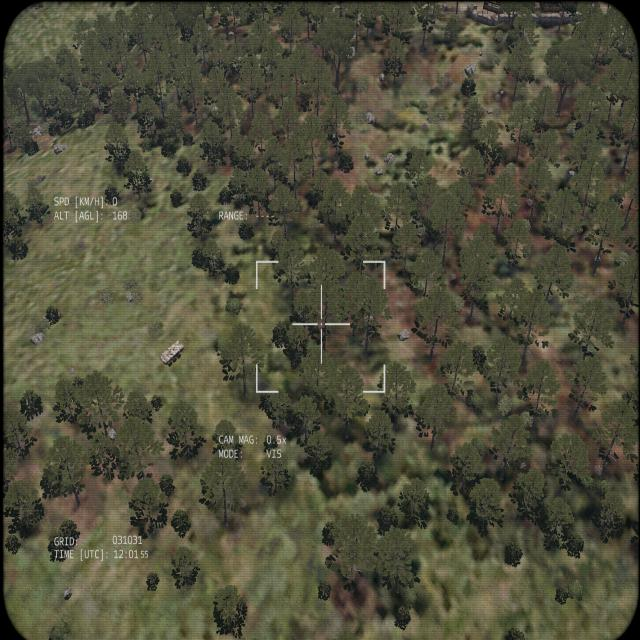apc: (159, 338, 184, 367)
